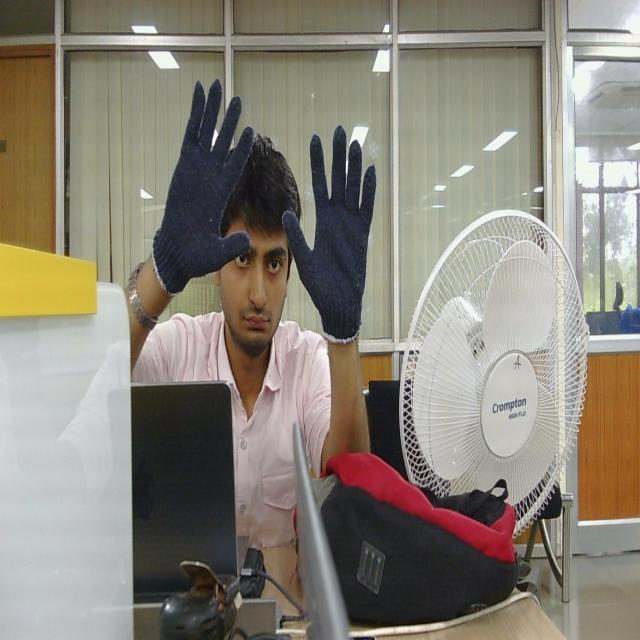Gloves-Detection: (151, 76, 248, 296), (283, 128, 377, 340)
